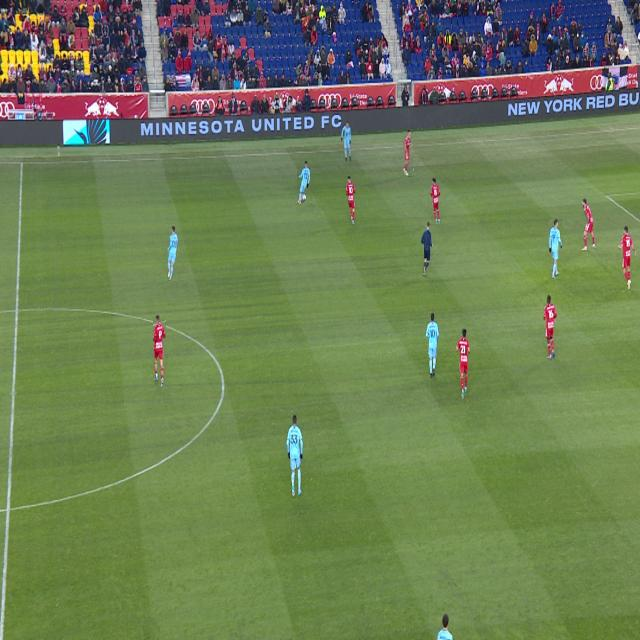football: (303, 195, 306, 201)
player: (286, 415, 303, 497), (618, 226, 636, 290), (456, 329, 470, 399), (153, 316, 166, 388), (543, 296, 557, 360), (426, 313, 439, 378), (581, 199, 596, 251), (549, 220, 562, 279), (168, 226, 178, 281), (298, 162, 310, 205), (430, 178, 440, 224), (346, 176, 355, 225), (404, 130, 413, 176), (341, 121, 351, 161), (437, 614, 453, 639)
referee: (421, 223, 433, 277)
